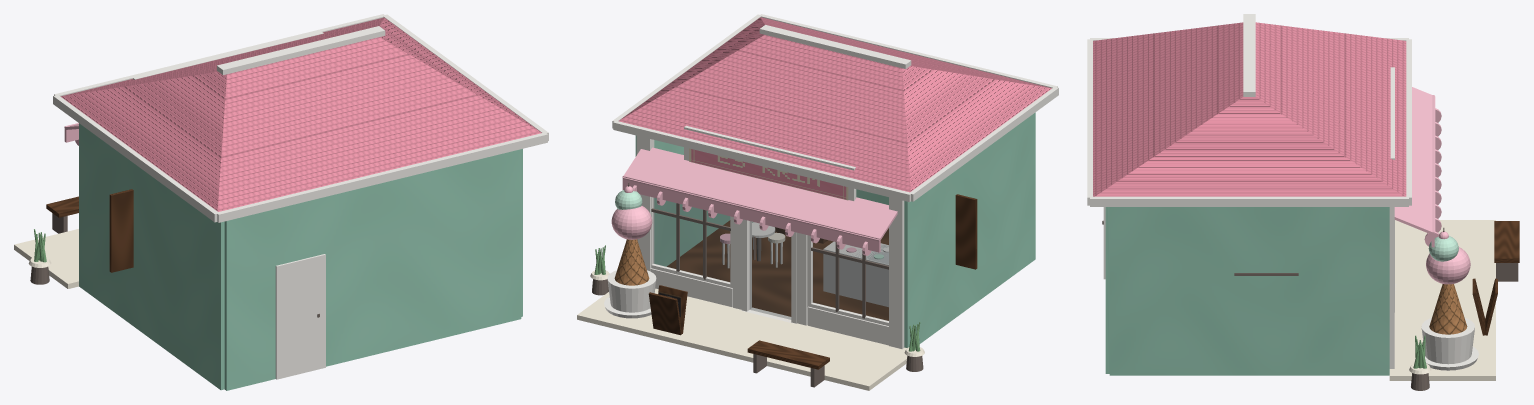
The model's file is es-krim-toko-blender-v1.glb.
The picture shows the model from 3 angles, left to right: view 1: azimuth 30°, elevation 25°; view 2: azimuth 150°, elevation 25°; view 3: azimuth 270°, elevation 25°; orthographic projection. The views are drawn at different scales.
Visible parts, largest first — view 1: esk_plaster, esk_tiles, esk_white, esk_wood, esk_cream, esk_dark; view 2: esk_tiles, esk_white, esk_plaster, esk_pink, esk_glass, esk_cream, esk_wood, esk_dark, esk_sign, esk_waffle, esk_leaf, esk_mint; view 3: esk_tiles, esk_plaster, esk_white, esk_cream, esk_pink, esk_wood, esk_waffle, esk_dark, esk_mint.
Boxes of the visible parts, x1,y1,x2,y2 form: esk_plaster: [79, 123, 522, 390]; esk_tiles: [60, 17, 541, 211]; esk_white: [53, 14, 548, 379]; esk_wood: [46, 189, 133, 272]; esk_cream: [14, 229, 78, 288]; esk_dark: [30, 213, 319, 317]; esk_tiles: [619, 17, 1051, 192]; esk_white: [604, 14, 1058, 348]; esk_plaster: [635, 112, 1035, 347]; esk_pink: [611, 147, 897, 255]; esk_glass: [653, 198, 888, 320]; esk_cream: [577, 232, 924, 390]; esk_wood: [648, 194, 977, 369]; esk_dark: [592, 182, 923, 387]; esk_sign: [689, 148, 848, 200]; esk_waffle: [614, 239, 649, 285]; esk_leaf: [594, 245, 920, 351]; esk_mint: [615, 190, 883, 259]; esk_tiles: [1093, 22, 1406, 196]; esk_plaster: [1105, 207, 1389, 375]; esk_white: [1087, 14, 1478, 370]; esk_cream: [1389, 220, 1495, 380]; esk_pink: [1394, 87, 1470, 284]; esk_wood: [1472, 221, 1519, 335]; esk_waffle: [1429, 284, 1467, 334]; esk_dark: [1102, 220, 1518, 390]; esk_mint: [1428, 236, 1458, 261].
Size of the model in its own units: 7.49 by 4.93 by 7.72.
Materials: 14 (6 with a texture image).
